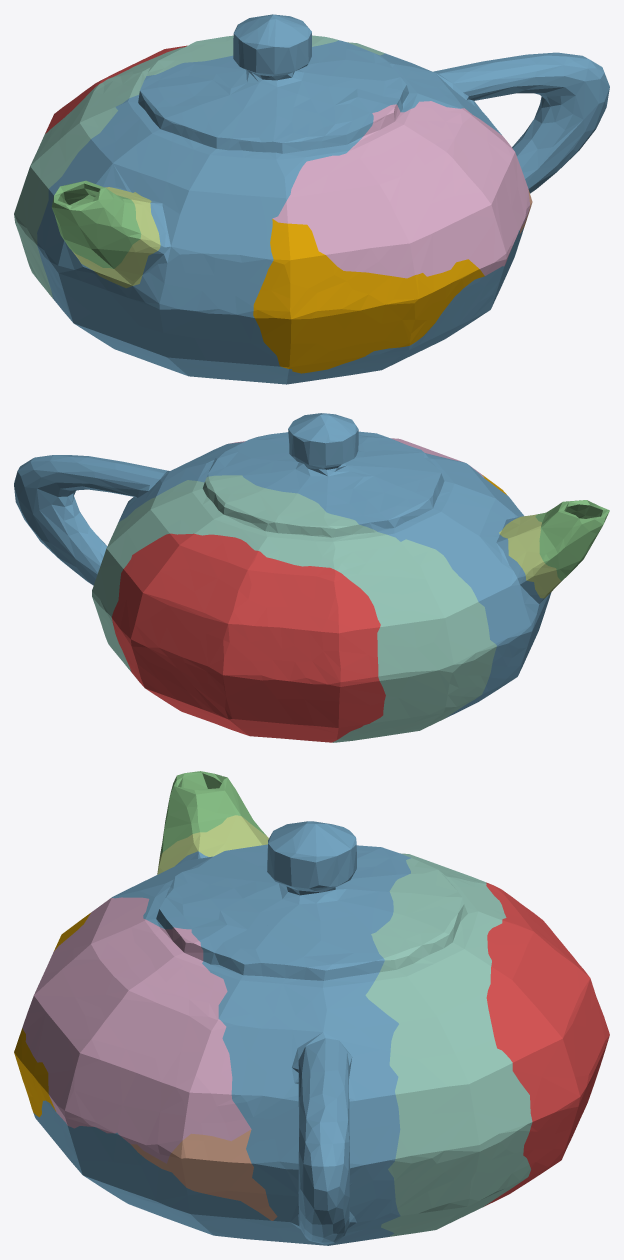
The model's file is fractured_54_8pcs.glb.
3 renders of one model, top to bottom at view 1: azimuth 30°, elevation 25°; view 2: azimuth 150°, elevation 25°; view 3: azimuth 270°, elevation 25°, orthographic. The views are drawn at different scales.
Visible parts, largest first — view 1: piece_2.obj, piece_6.obj, piece_0.obj, piece_4.obj, piece_3.obj, piece_5.obj, piece_1.obj; view 2: piece_1.obj, piece_2.obj, piece_4.obj, piece_3.obj, piece_5.obj; view 3: piece_2.obj, piece_4.obj, piece_6.obj, piece_1.obj, piece_7.obj, piece_3.obj, piece_5.obj, piece_0.obj.
Boxes of the visible parts, <box> form: piece_2.obj: <box>37,14,609,384</box>; piece_6.obj: <box>272,101,529,278</box>; piece_0.obj: <box>253,219,484,373</box>; piece_4.obj: <box>14,35,384,298</box>; piece_3.obj: <box>51,180,141,268</box>; piece_5.obj: <box>72,187,160,288</box>; piece_1.obj: <box>45,45,187,133</box>; piece_1.obj: <box>111,533,385,742</box>; piece_2.obj: <box>14,413,551,718</box>; piece_4.obj: <box>92,475,496,742</box>; piece_3.obj: <box>535,500,609,580</box>; piece_5.obj: <box>499,514,561,598</box>; piece_2.obj: <box>33,821,410,1245</box>; piece_4.obj: <box>365,853,532,1236</box>; piece_6.obj: <box>22,897,251,1163</box>; piece_1.obj: <box>484,882,609,1206</box>; piece_7.obj: <box>131,1129,277,1220</box>; piece_3.obj: <box>160,771,266,855</box>; piece_5.obj: <box>157,815,268,874</box>; piece_0.obj: <box>14,913,90,1117</box>.
Size of the model in its own units: 1 by 0.4864 by 0.7399.
